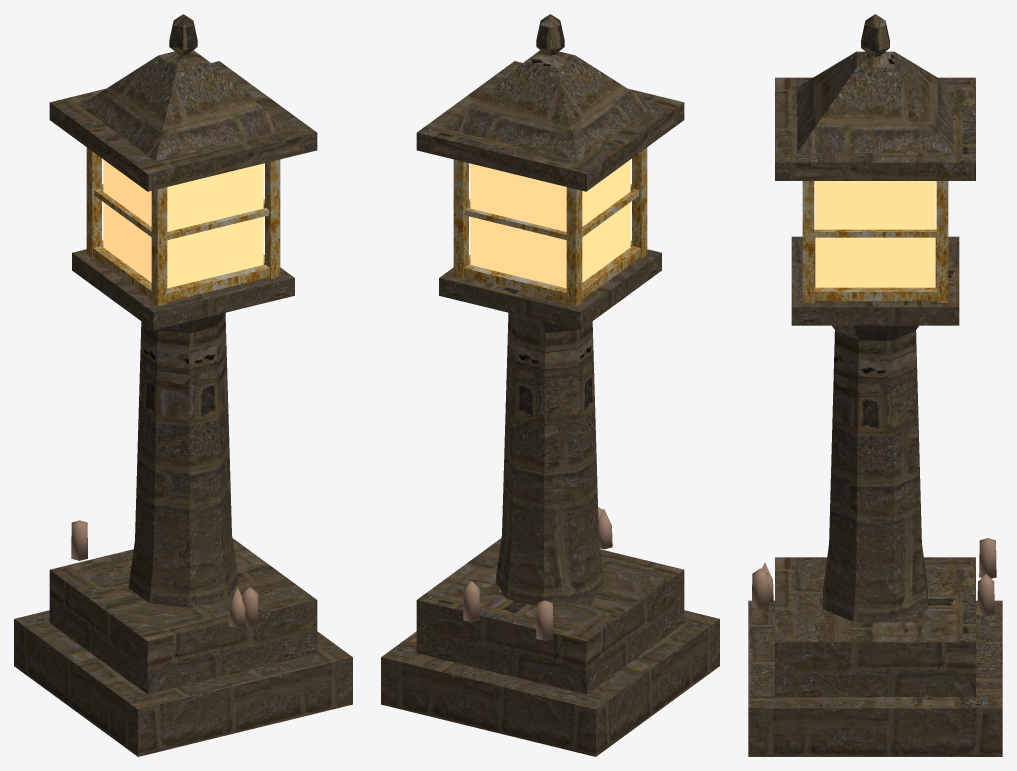
The model's file is lantern.glb.
3 renders of one model, left to right at view 1: azimuth 30°, elevation 25°; view 2: azimuth 150°, elevation 25°; view 3: azimuth 270°, elevation 25°, orthographic. The views are drawn at different scales.
Visible parts, largest first — view 1: lantern; view 2: lantern; view 3: lantern.
Boxes of the visible parts, x1,y1,x2,y2 form: lantern: [14, 14, 352, 756]; lantern: [381, 14, 719, 756]; lantern: [748, 14, 1002, 756].
Size of the model in its own units: 0.76 by 2.27 by 0.76.
Materials: 5 (2 with a texture image).
